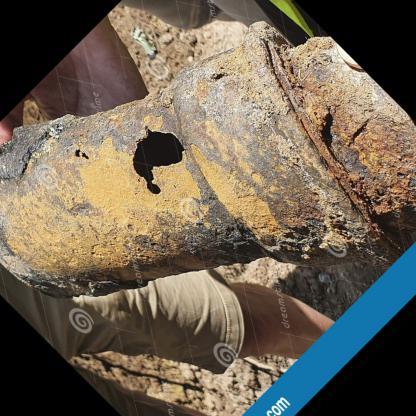burst: (122, 123, 200, 193)
